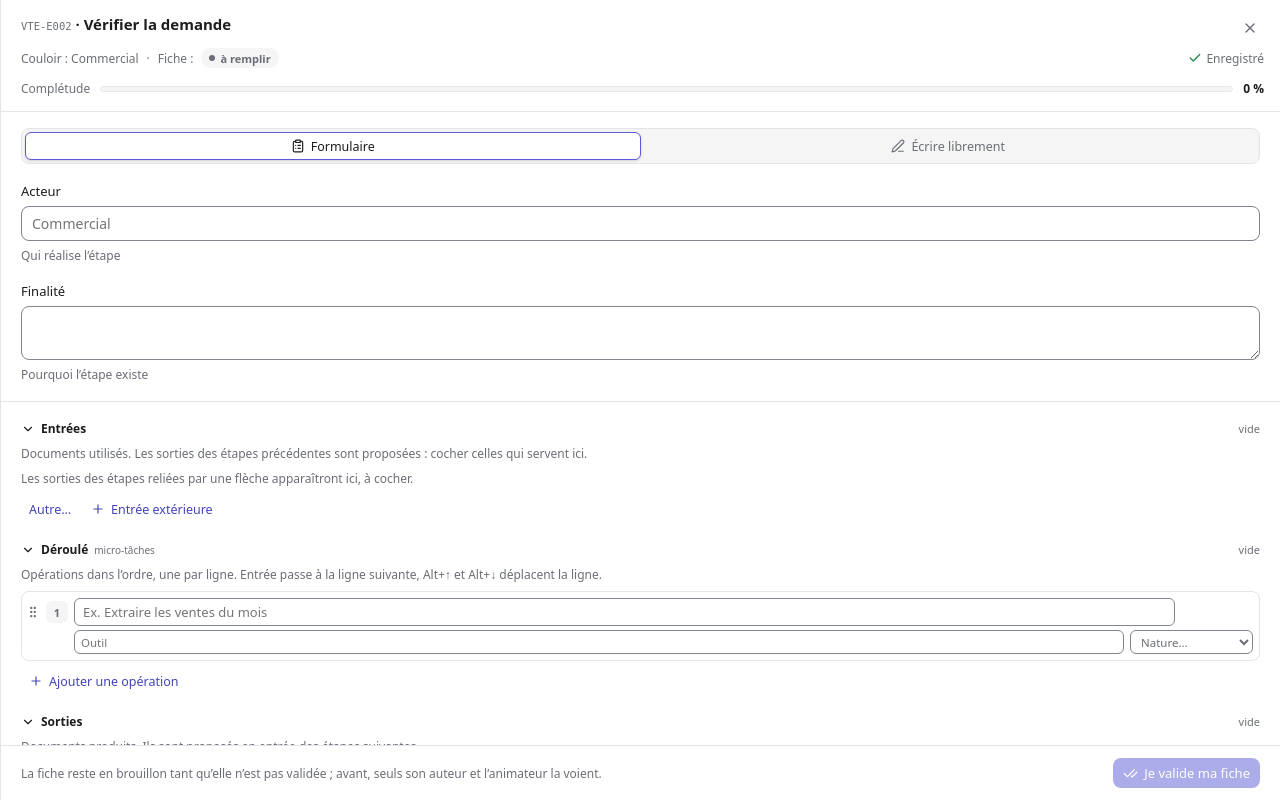
Test: « Autre… » (B-4-64) › a dialog of the outputs of the other steps by step; a tick uses the document with an empty use and stays ticked
Click the button "Autre…" at {"x": 50, "y": 509}, box [21, 495, 79, 523]
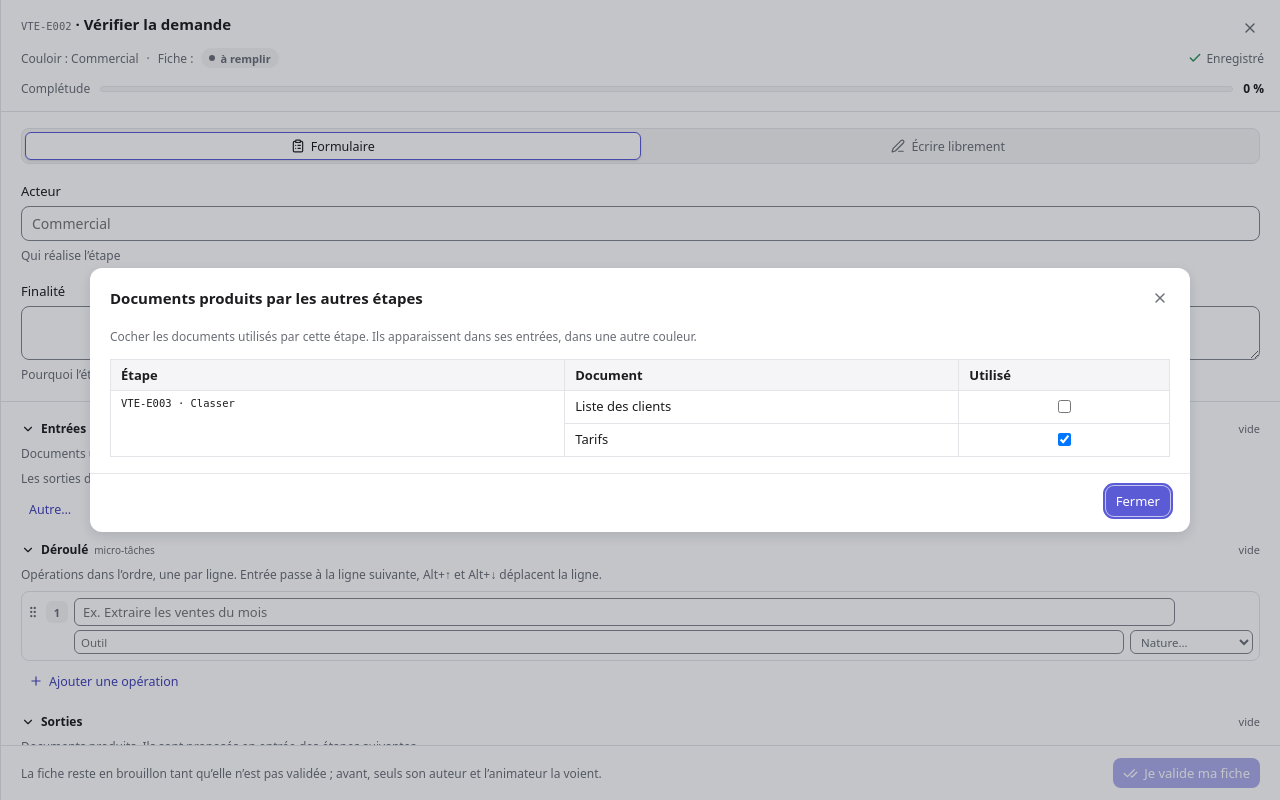
Click the checkbox named "Utiliser « Liste des clients »" at {"x": 1065, "y": 406}, box [1058, 400, 1071, 413]
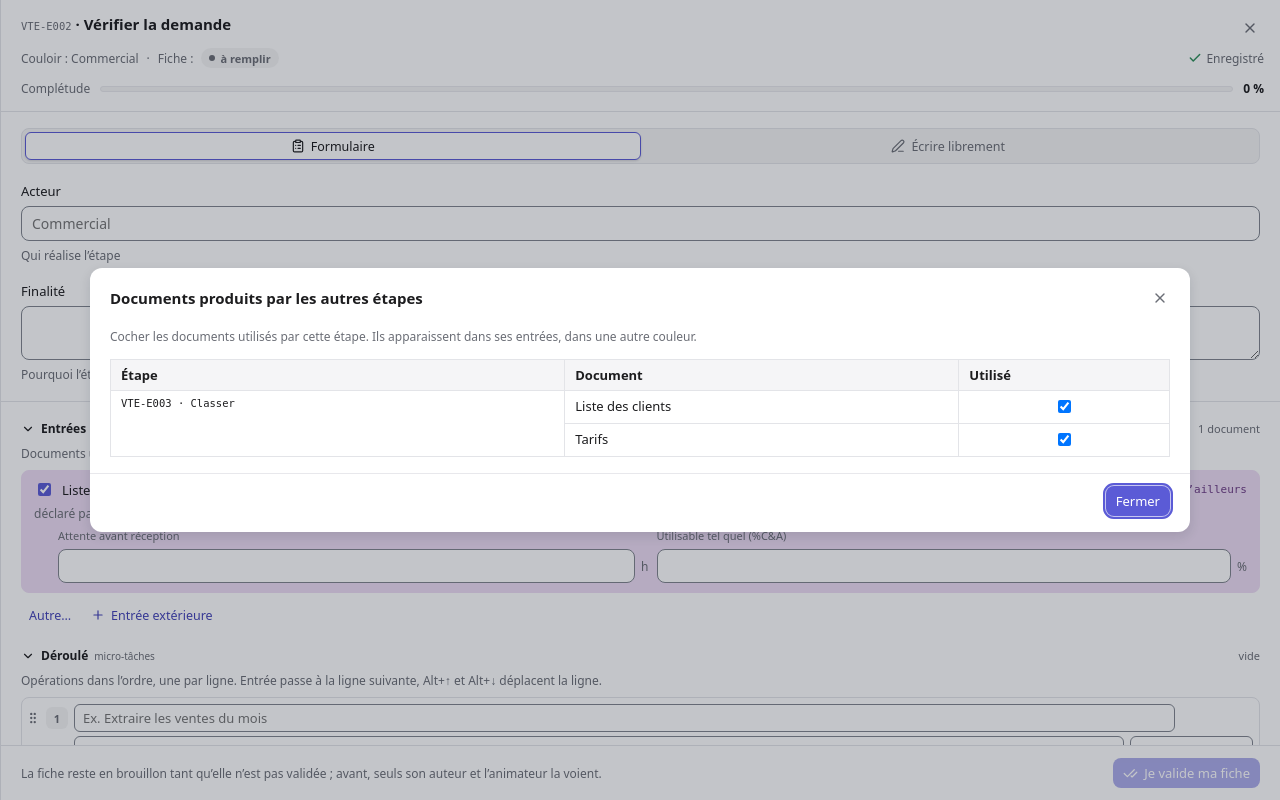
Now the checkbox named "Utiliser « Liste des clients »" is checked, box [1058, 400, 1071, 413]
Click the button with test id "other-documents-done" at {"x": 1138, "y": 501}, box [1106, 486, 1170, 516]
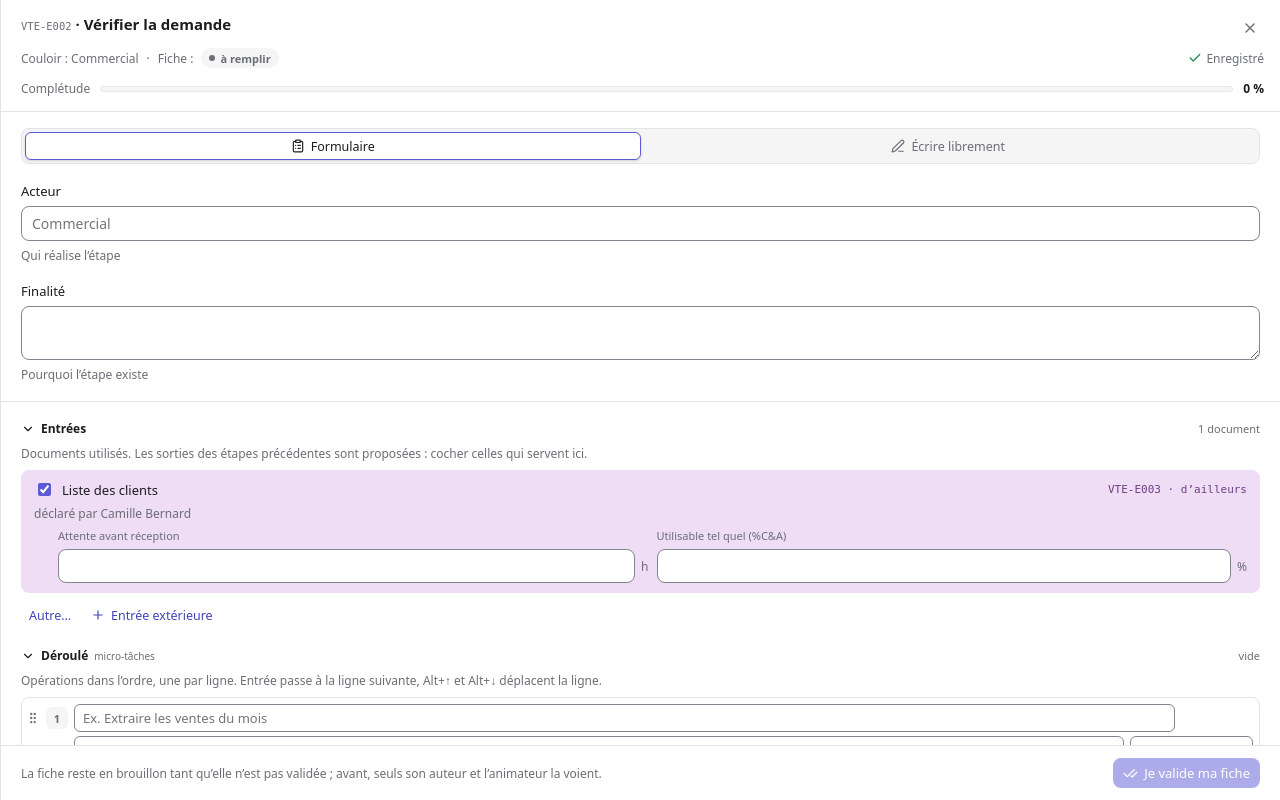
Now the dialog is gone
